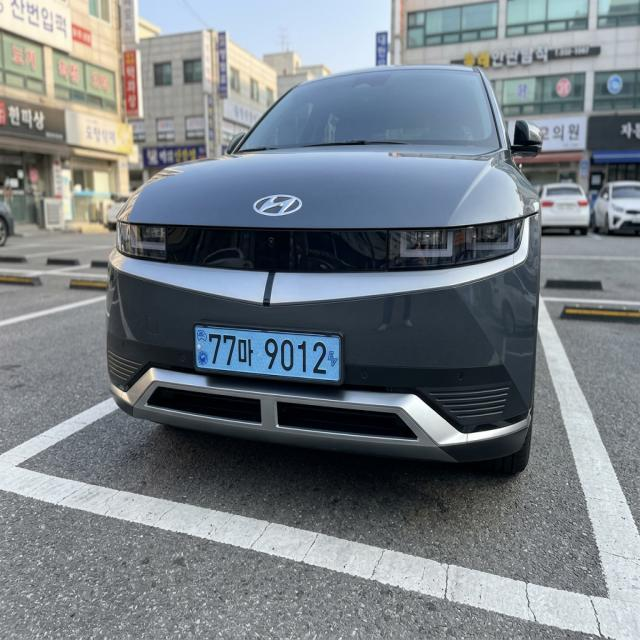car: (181, 310, 361, 401)
carev: (325, 324, 348, 392), (189, 323, 210, 379)
